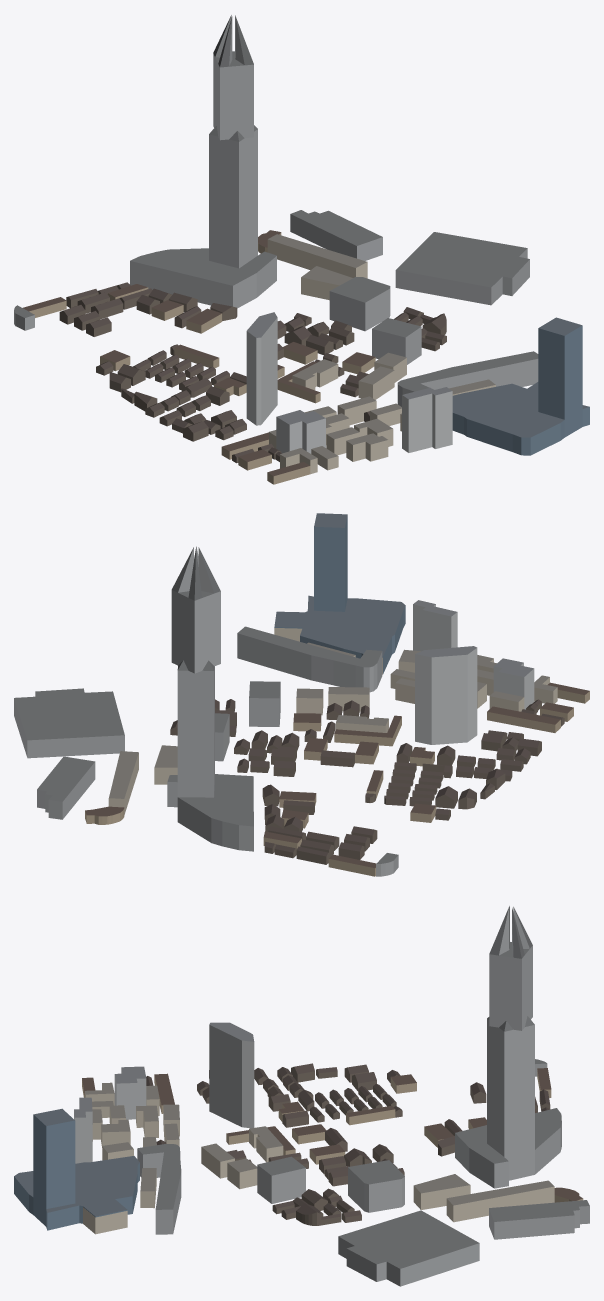
The model's file is tile_2_8.glb.
3 views of the same model, one above another, from view 1: azimuth 30°, elevation 25°; view 2: azimuth 150°, elevation 25°; view 3: azimuth 270°, elevation 25° (orthographic).
Visible parts, largest first — view 1: HP-w445161727, HP-w525387329, HP-w39763758, HP-w369317449, HP-w369317595, HP-w369317607, HP-w39764333, HP-w314729060, HP-w143670115, HP-w369317604, HP-w369317468, HP-w369317503 (+8 smaller); view 2: HP-w445161727, HP-w525387329, HP-w39763758, HP-w369317595, HP-w369317449, HP-w39764333, HP-w369317607, HP-w369317604, HP-w369317468, HP-w143670115, HP-w369317493, HP-w369317574 (+13 smaller); view 3: HP-w445161727, HP-w525387329, HP-w39763758, HP-w369317595, HP-w39764333, HP-w369317449, HP-w314729060, HP-w143670115, HP-w369317468, HP-w369317604, HP-w369317503, HP-w369317607 (+11 smaller).
Part boxes in pixels (x1=…): HP-w445161727: x1=130, y1=15, x2=276, y2=308; HP-w525387329: x1=452, y1=317, x2=589, y2=455; HP-w39763758: x1=395, y1=232, x2=529, y2=305; HP-w369317449: x1=397, y1=351, x2=538, y2=406; HP-w369317595: x1=246, y1=312, x2=277, y2=425; HP-w369317607: x1=402, y1=387, x2=452, y2=452; HP-w39764333: x1=290, y1=210, x2=382, y2=260; HP-w314729060: x1=329, y1=277, x2=390, y2=331; HP-w143670115: x1=267, y1=234, x2=367, y2=278; HP-w369317604: x1=276, y1=410, x2=325, y2=453; HP-w369317468: x1=372, y1=318, x2=421, y2=364; HP-w369317503: x1=301, y1=266, x2=352, y2=300; HP-w445161727: x1=167, y1=546, x2=253, y2=851; HP-w525387329: x1=274, y1=513, x2=405, y2=673; HP-w39763758: x1=14, y1=688, x2=124, y2=758; HP-w369317595: x1=415, y1=646, x2=477, y2=744; HP-w369317449: x1=237, y1=626, x2=382, y2=692; HP-w39764333: x1=37, y1=756, x2=95, y2=819; HP-w369317607: x1=413, y1=600, x2=457, y2=651; HP-w369317604: x1=493, y1=658, x2=534, y2=709; HP-w369317468: x1=249, y1=681, x2=280, y2=726; HP-w143670115: x1=108, y1=751, x2=138, y2=814; HP-w369317493: x1=487, y1=706, x2=560, y2=732; HP-w369317574: x1=334, y1=715, x2=401, y2=746; HP-w445161727: x1=455, y1=906, x2=561, y2=1188; HP-w525387329: x1=14, y1=1108, x2=139, y2=1230; HP-w39763758: x1=338, y1=1210, x2=479, y2=1286; HP-w369317595: x1=209, y1=1022, x2=254, y2=1128; HP-w39764333: x1=489, y1=1200, x2=589, y2=1239; HP-w369317449: x1=137, y1=1144, x2=181, y2=1234; HP-w314729060: x1=348, y1=1160, x2=404, y2=1212; HP-w143670115: x1=446, y1=1180, x2=554, y2=1222; HP-w369317468: x1=257, y1=1156, x2=305, y2=1203; HP-w369317604: x1=114, y1=1066, x2=146, y2=1119; HP-w369317503: x1=413, y1=1174, x2=470, y2=1209; HP-w369317607: x1=74, y1=1097, x2=92, y2=1163.
Size of the model in its own units: 495 by 285 by 560.
